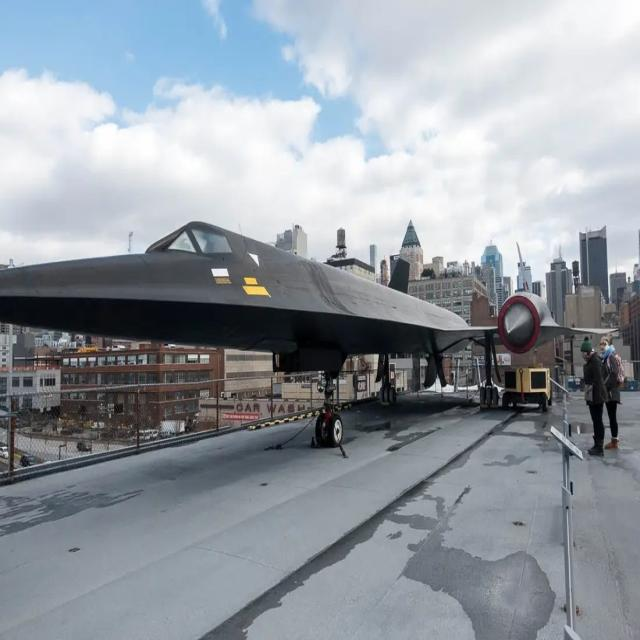MIL_Plane: (1, 220, 618, 447)
